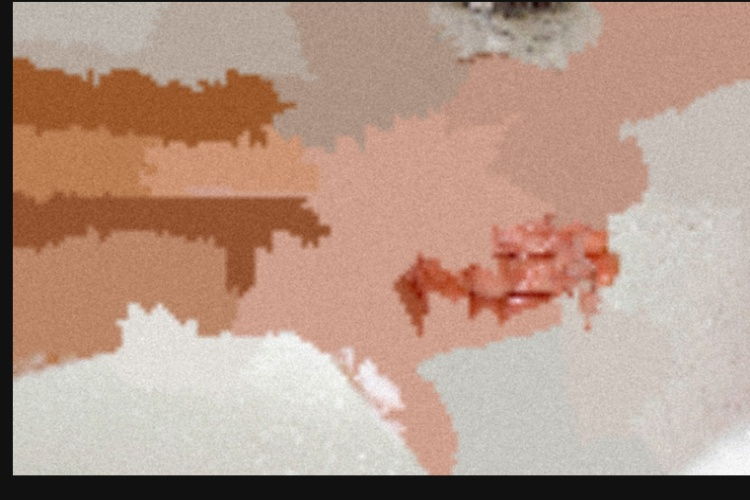washing hand: (124, 42, 720, 461)
